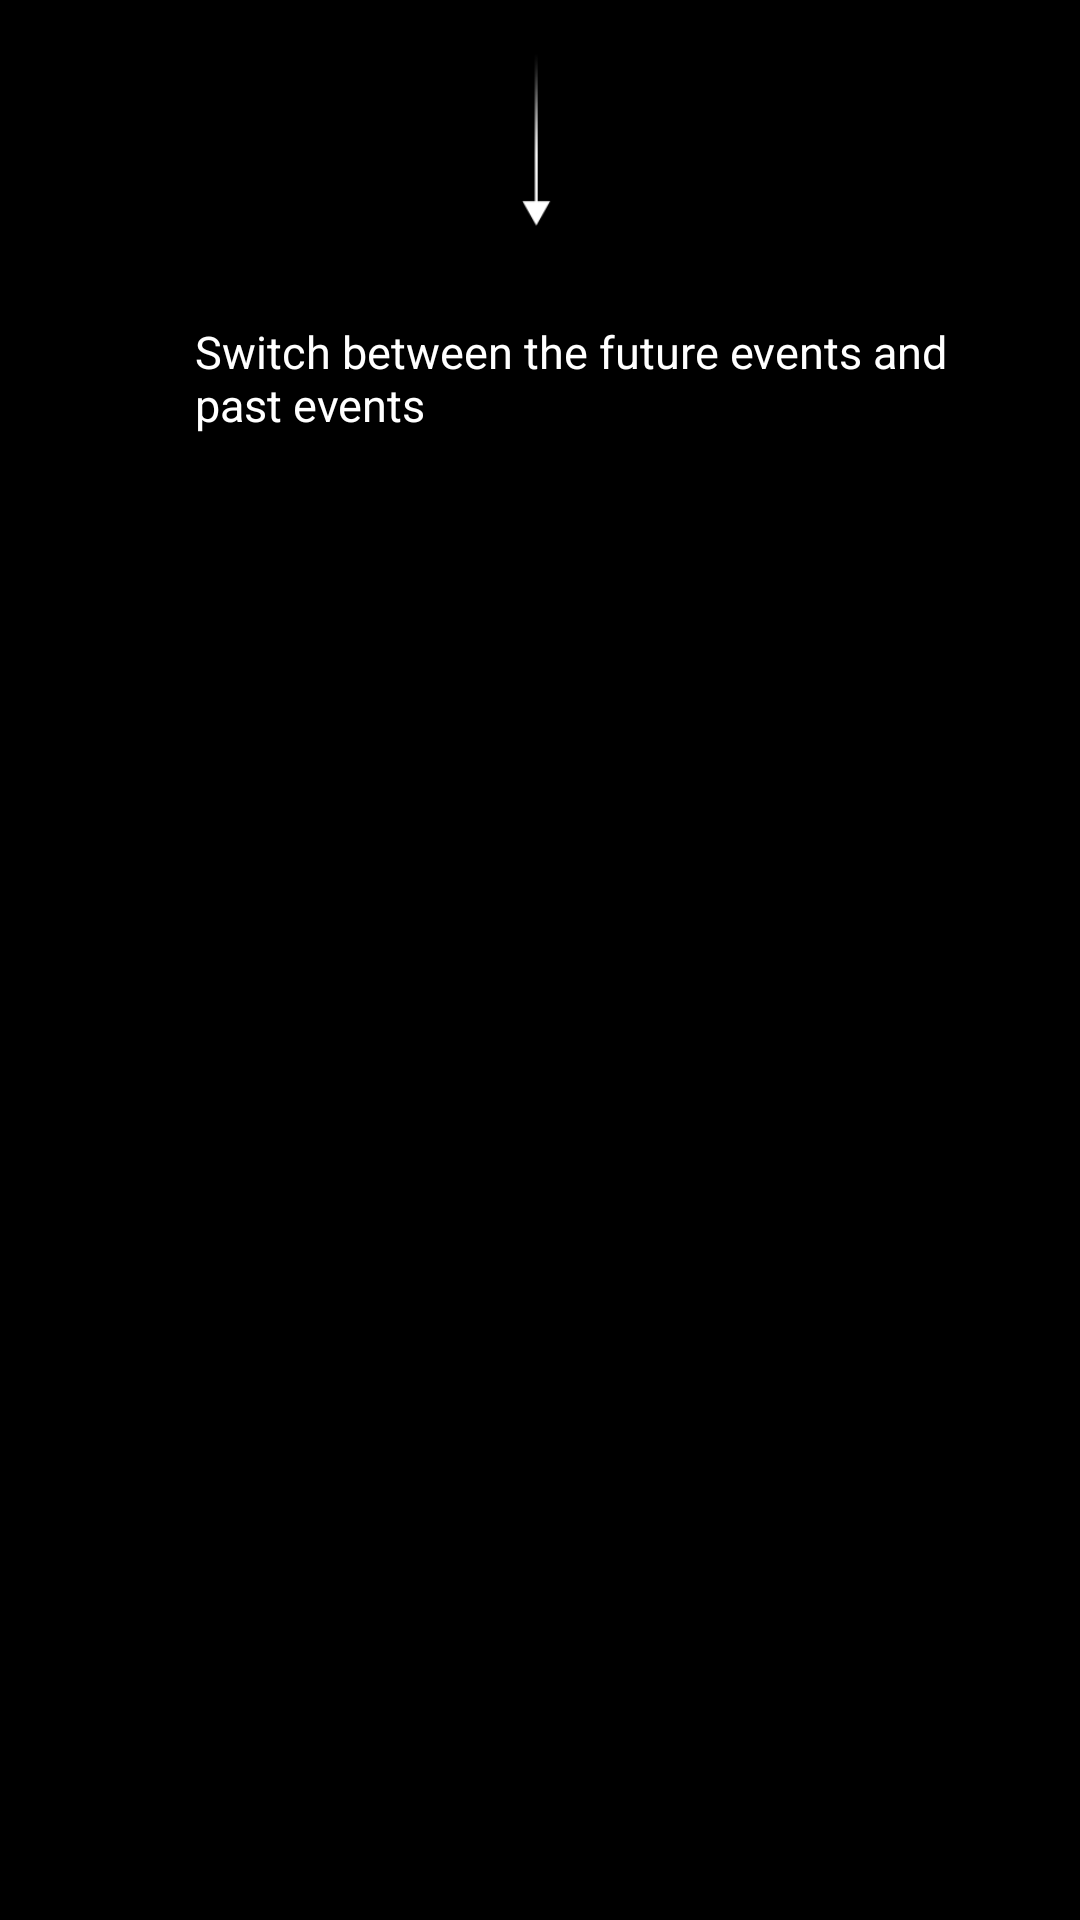

Icon click points for this 1080*1920 phone screenshot, format (x,y):
downarrow: (536,147)
